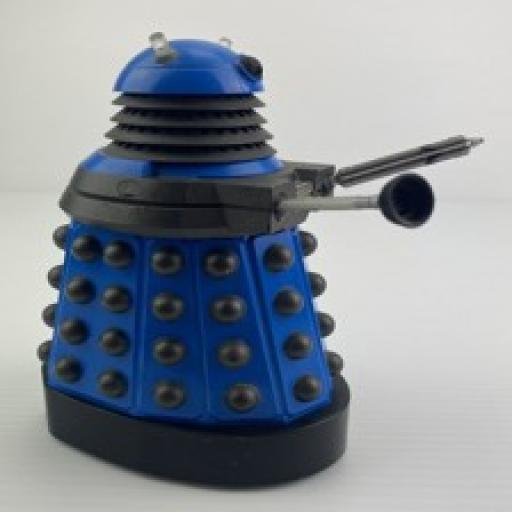dalek: (16, 25, 486, 490)
